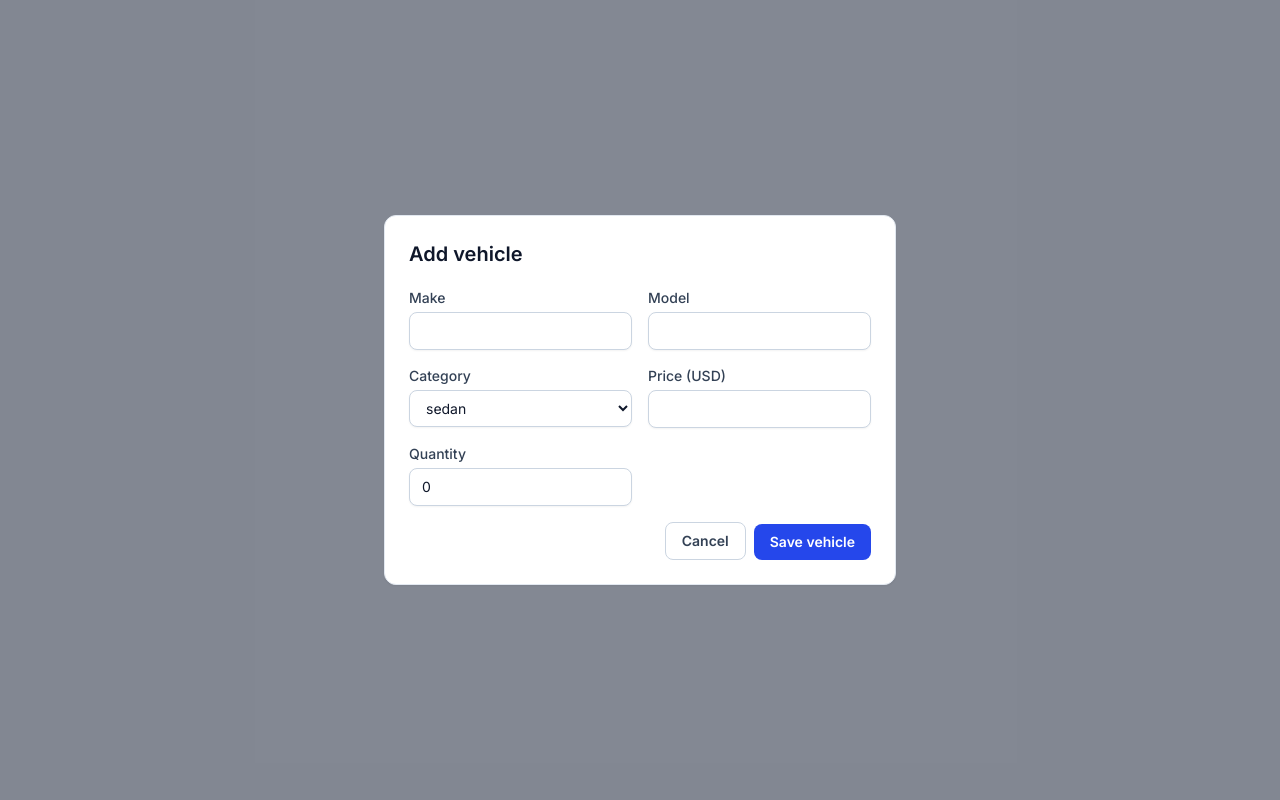
Test: VehicleFormModal › shows validation errors and does not submit an empty form
The image size is (1280, 800).
Click the button "Save vehicle".
click(812, 542)  # box [754, 524, 871, 560]
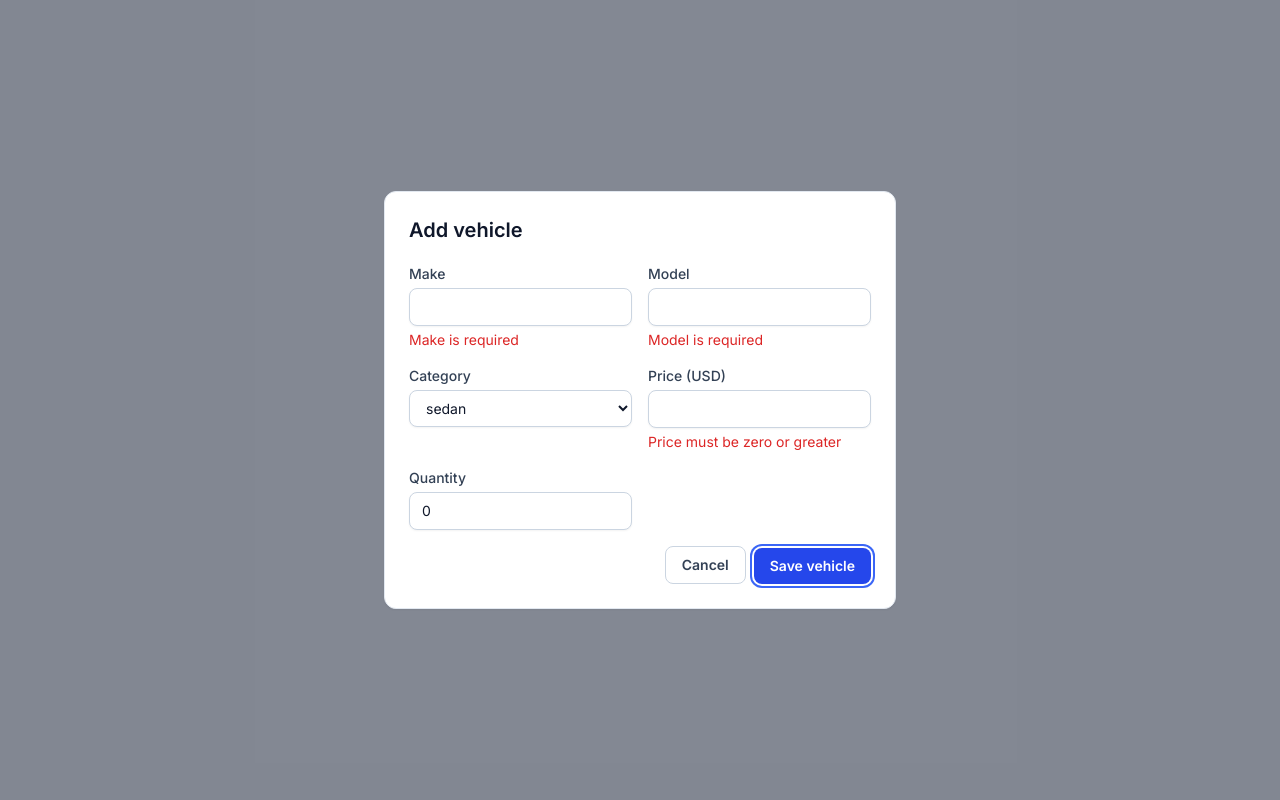
Now the text "Make is required" is shown, box [409, 331, 519, 348]
Now the text "Model is required" is shown, box [648, 331, 763, 348]
Now the text "Price must be zero or greater" is shown, box [648, 432, 871, 452]
